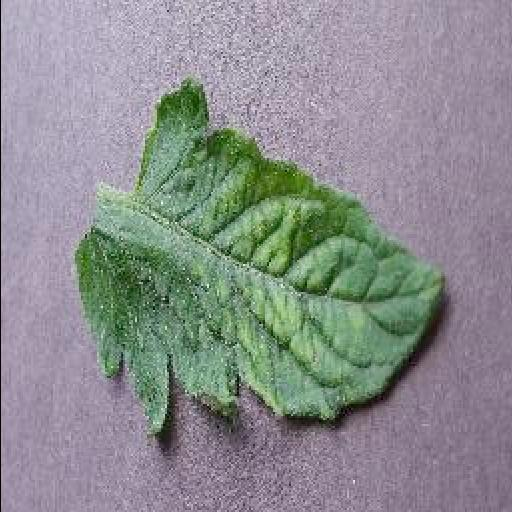Mosaic Virus: (72, 78, 448, 434)
